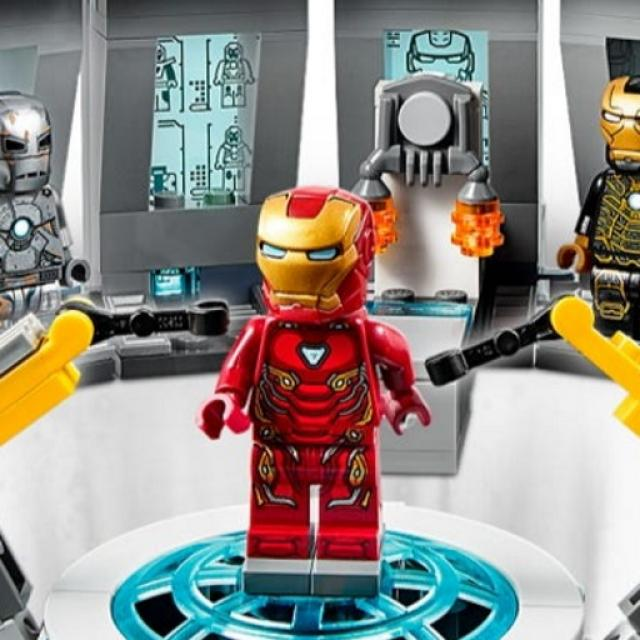Lego-Minifigures: (189, 164, 435, 626), (0, 78, 108, 403), (551, 64, 640, 355)
